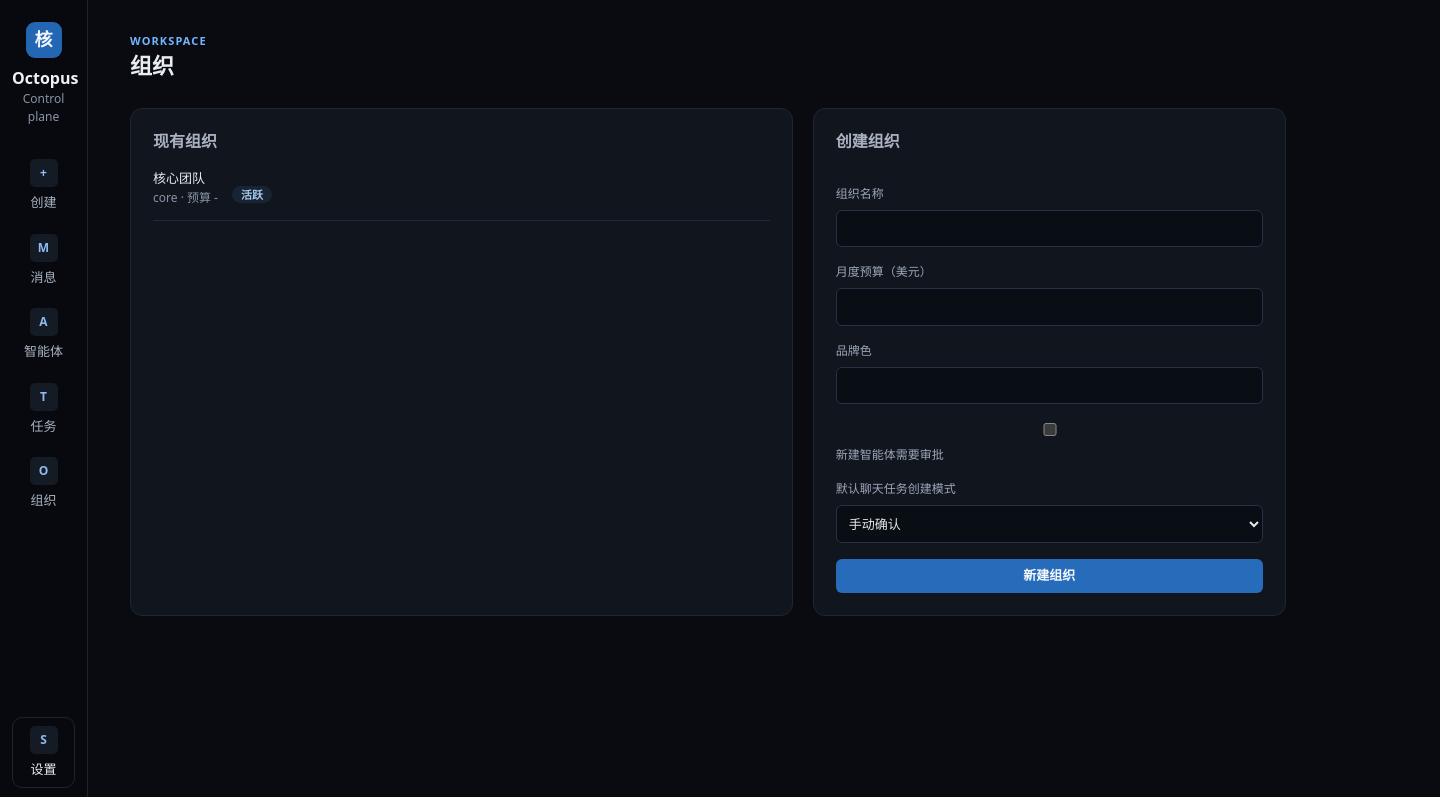
Test case: lists and creates organizations
Check: the link "核心团队" is shown, box top-left (153, 169), bottom-right (205, 187)
Type "设计团队" into the field labelled "组织名称" at (1049, 228), box top-left (836, 210), bottom-right (1263, 247)
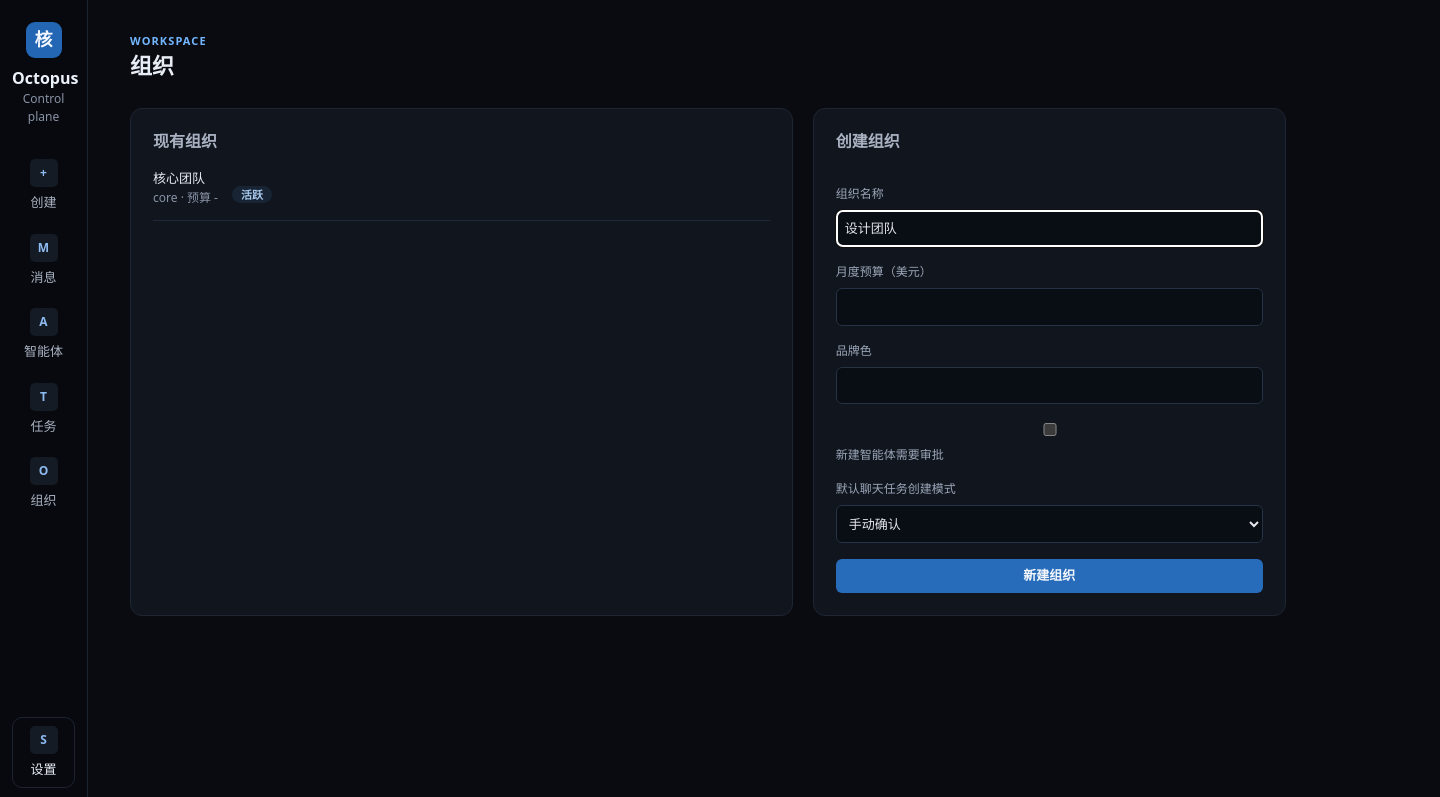
Type "2500" into the number field labelled "月度预算（美元）" at (1049, 307), box top-left (836, 288), bottom-right (1263, 326)
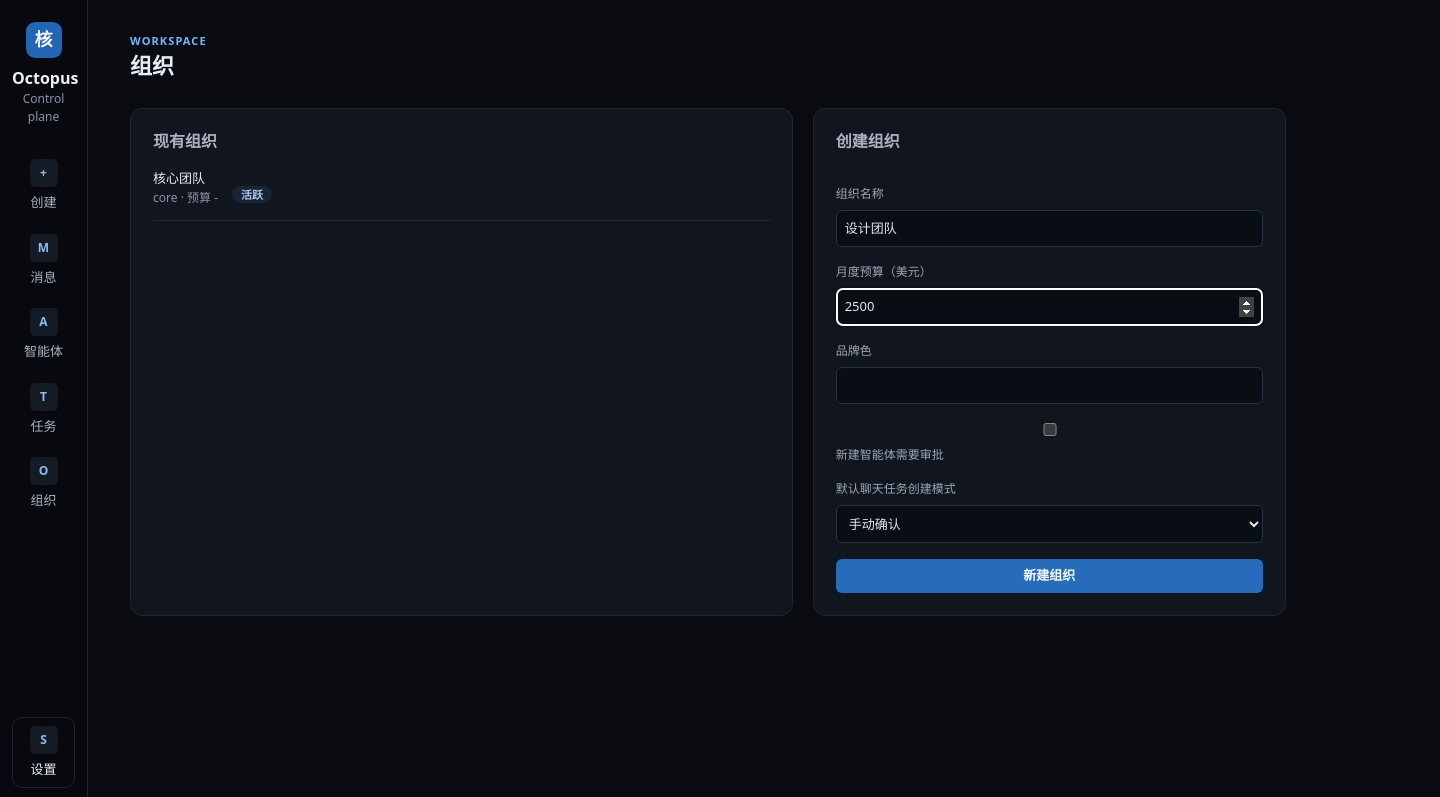
Type "#3366ff" into the field labelled "品牌色" at (1049, 385), box top-left (836, 367), bottom-right (1263, 404)
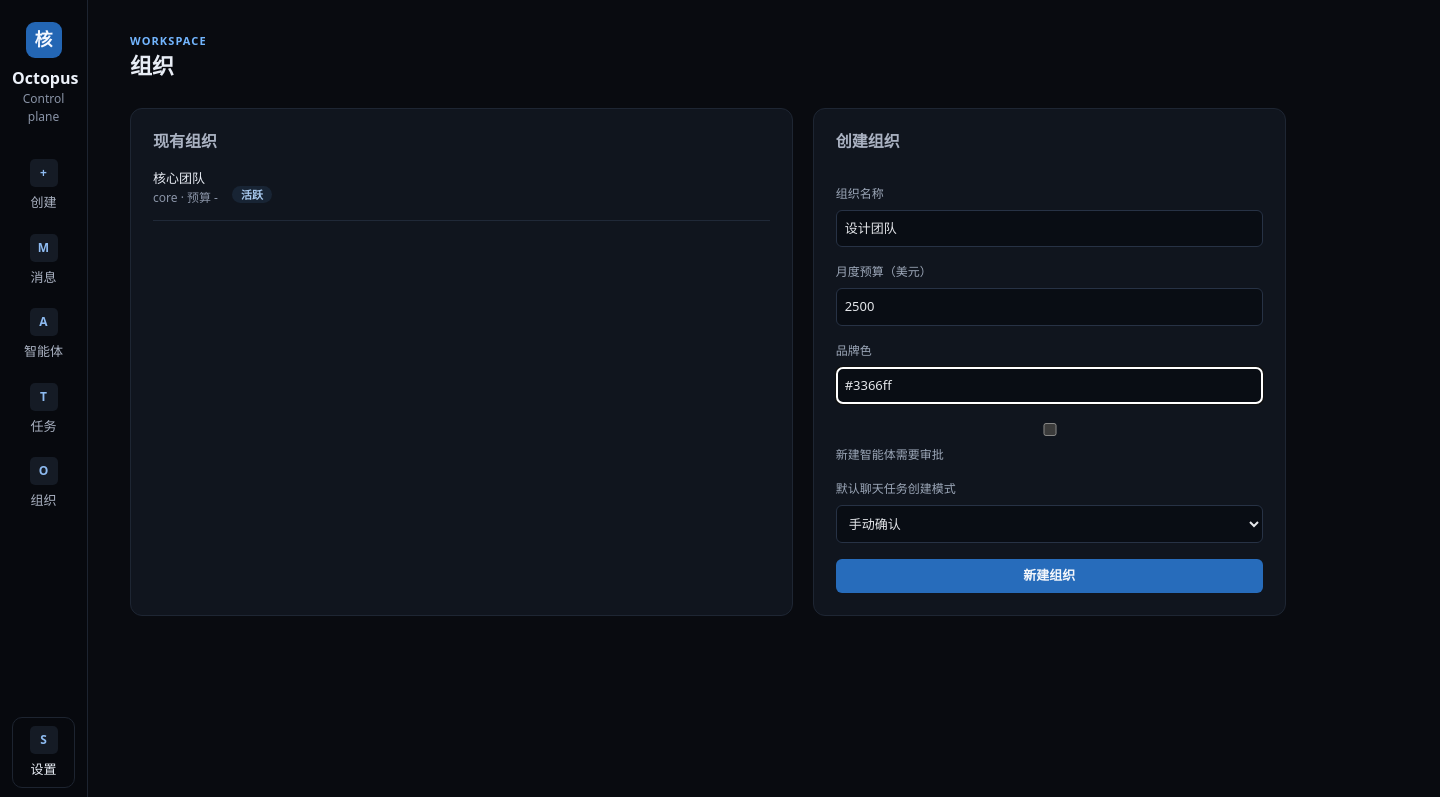
Click the checkbox labelled "新建智能体需要审批" at (1050, 430), box top-left (840, 423), bottom-right (1260, 436)
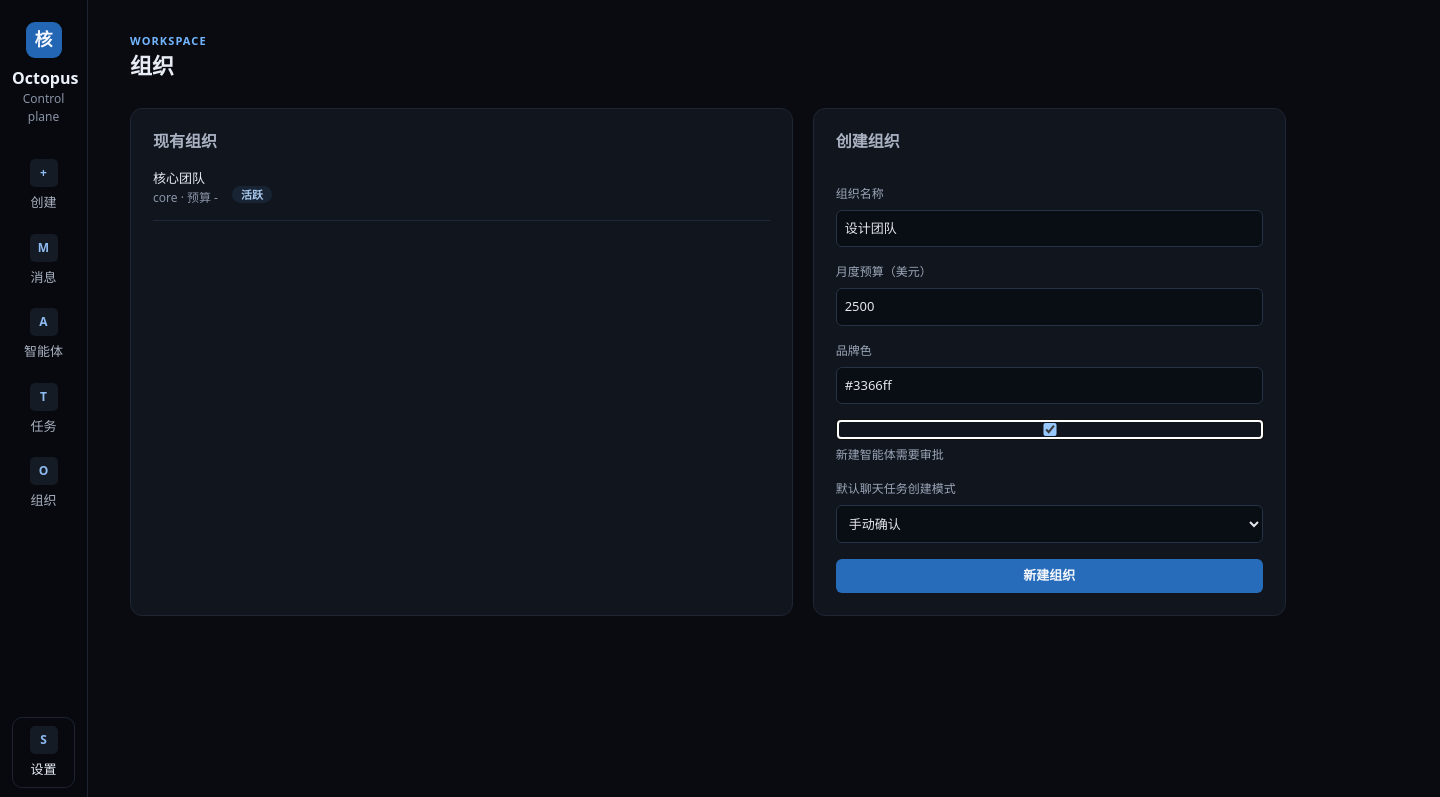
Select "自动创建" in the dropdown labelled "默认聊天任务创建模式" at (1049, 524), box top-left (836, 505), bottom-right (1263, 543)
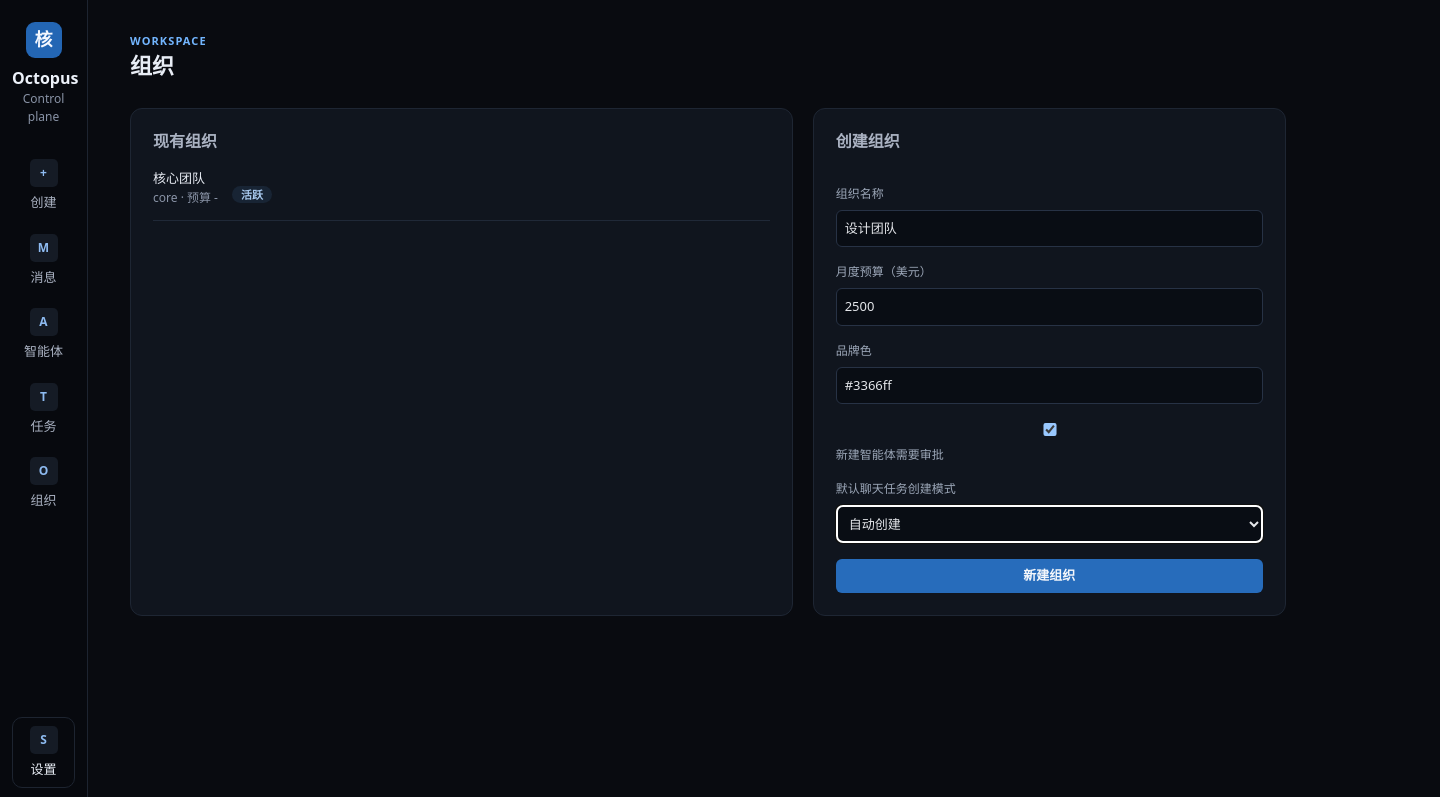
Click the button "新建组织" at (1049, 576), box top-left (836, 559), bottom-right (1263, 593)
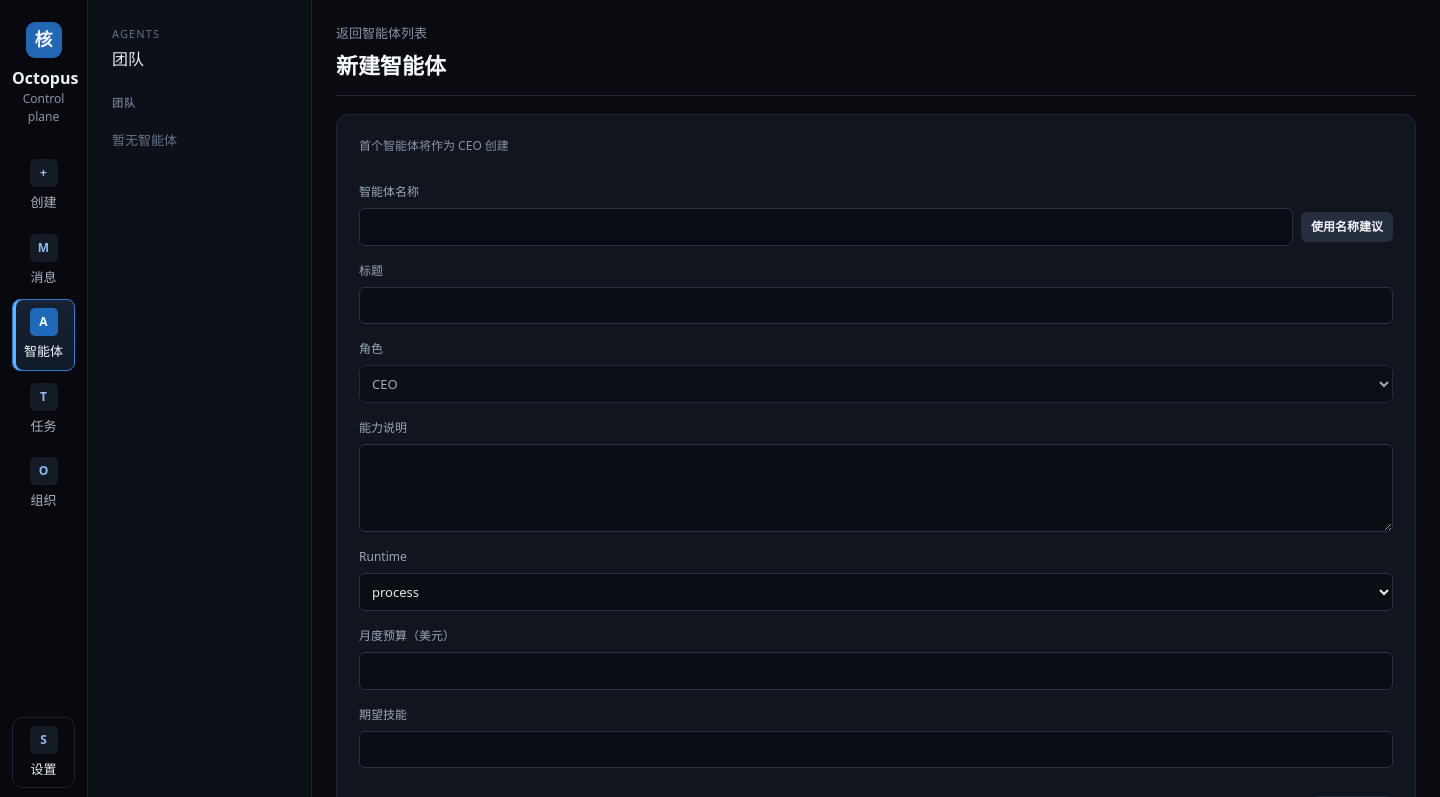
Check: the text "首个智能体将作为 CEO 创建" is shown, box top-left (359, 137), bottom-right (509, 154)
